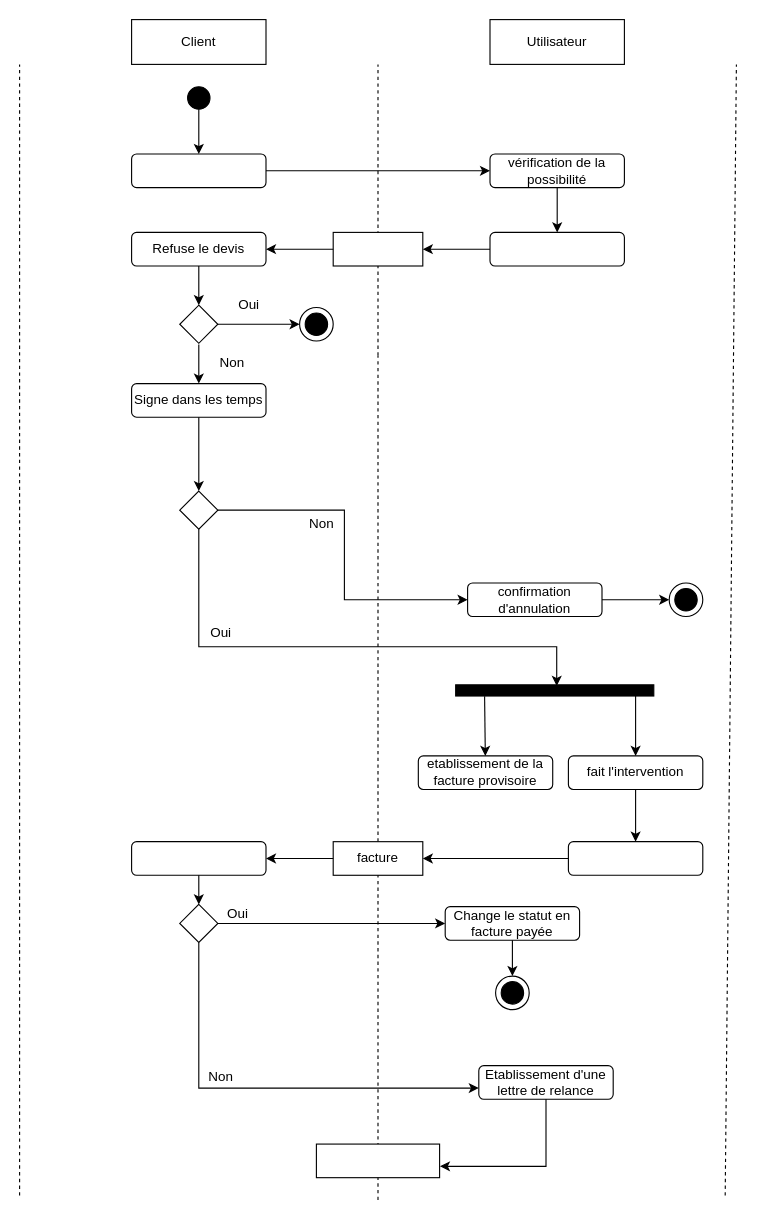
Image size: 757x1221. Some labels were removed from this diagram. Here are the shapes that lost their labels. From the top down, the box of each, then its label:
(130, 153, 266, 188): Demander un devis
(332, 231, 423, 266): devis
(489, 231, 624, 266): établissement du devis
(130, 841, 266, 875): Paye dans les temps
(567, 841, 703, 875): etablissement de la facture finalisée
(315, 1143, 440, 1178): Envoi de la lettre de relance
